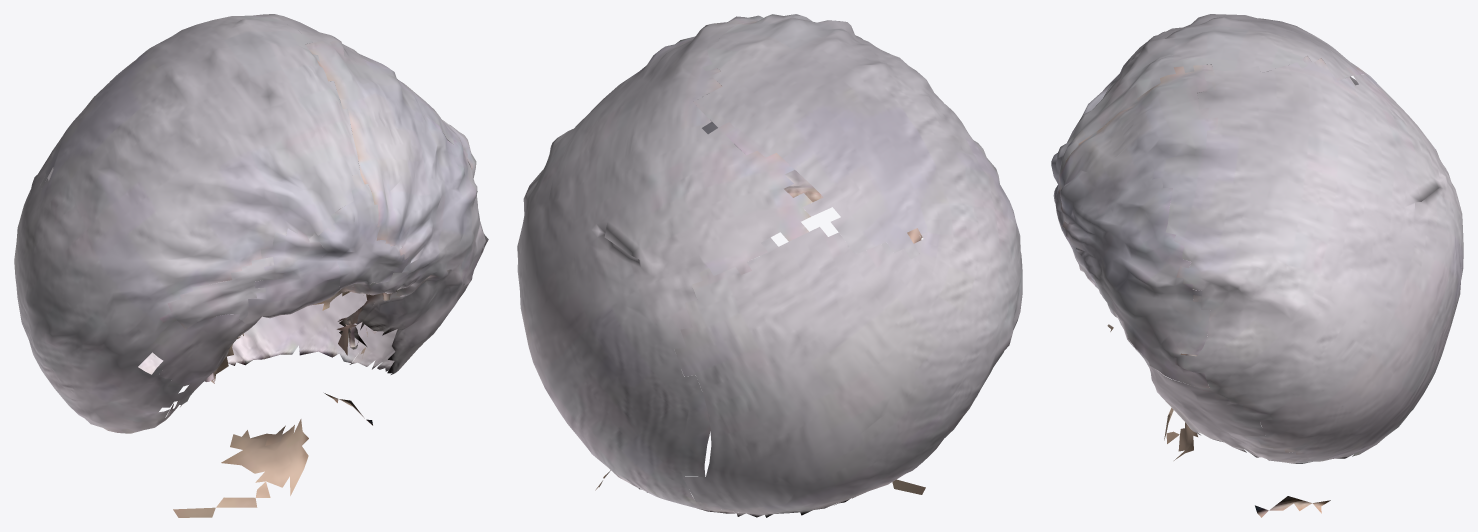
File: nova_nohat_hat.glb
3 views of the same model, side by side, from view 1: azimuth 30°, elevation 25°; view 2: azimuth 150°, elevation 25°; view 3: azimuth 270°, elevation 25° (orthographic). The views are drawn at different scales.
Visible parts, largest first — view 1: hat; view 2: hat; view 3: hat.
Boxes of the visible parts, x1,y1,x2,y2 form: hat: [14, 14, 488, 517]; hat: [517, 14, 1022, 517]; hat: [1051, 14, 1463, 517].
Bounding box in the file's own units: 0.4104 × 0.4009 × 0.3514.
Materials: 1 (1 with a texture image).
